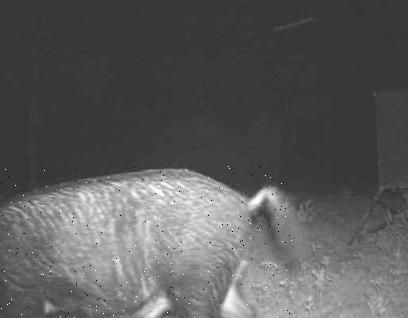Hog: (0, 165, 293, 318)
